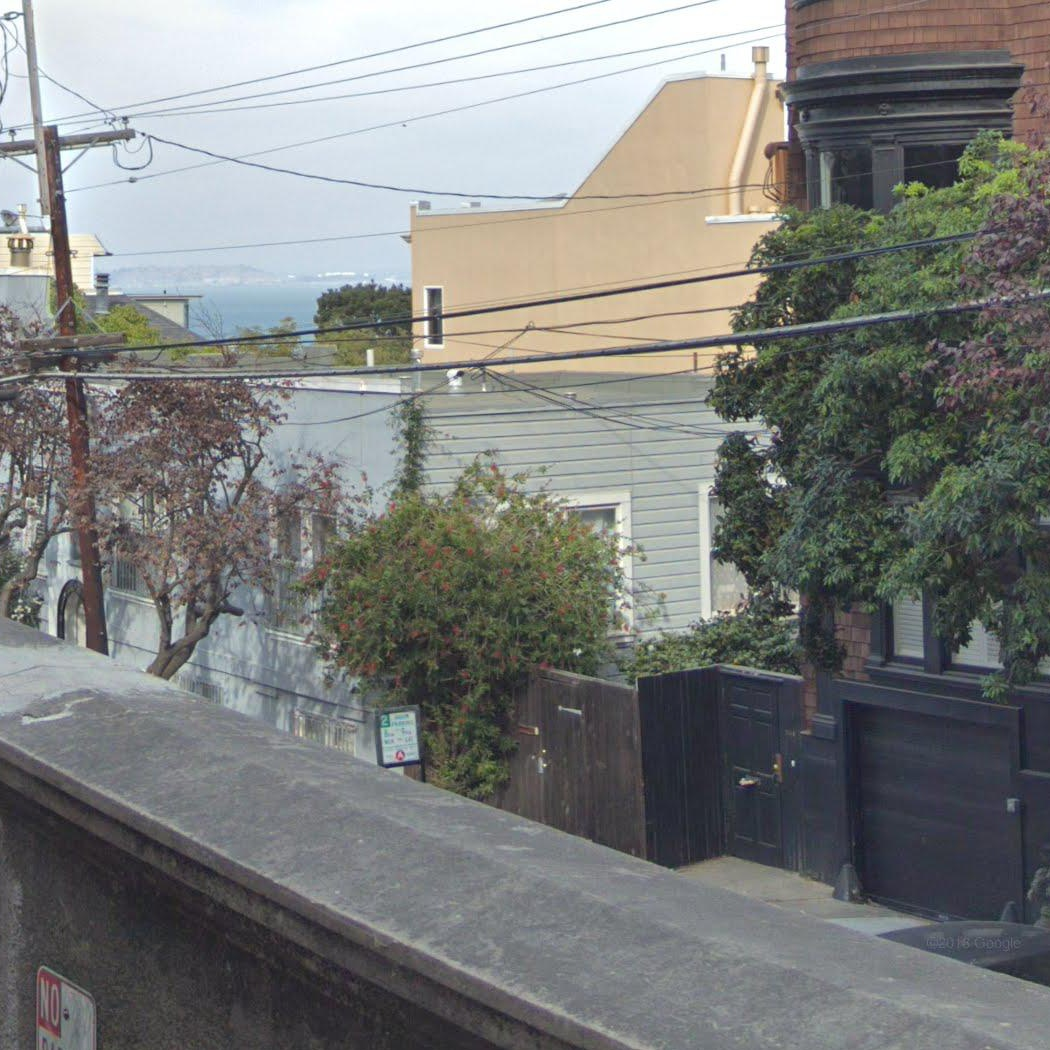2 Hour Parking: (377, 710, 420, 765)
